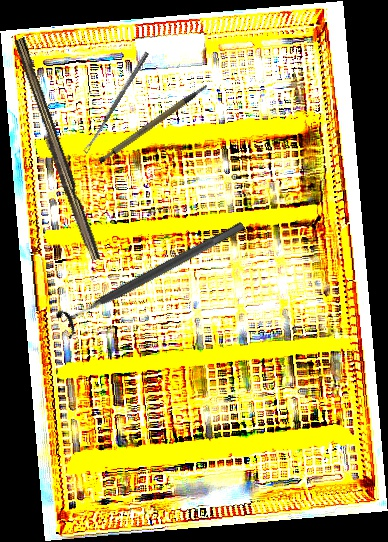Fixation Ring: (53, 210, 252, 341)
Scalpel Handle: (7, 36, 105, 264), (90, 83, 218, 167)
Surgical Spoon: (82, 51, 150, 154)
